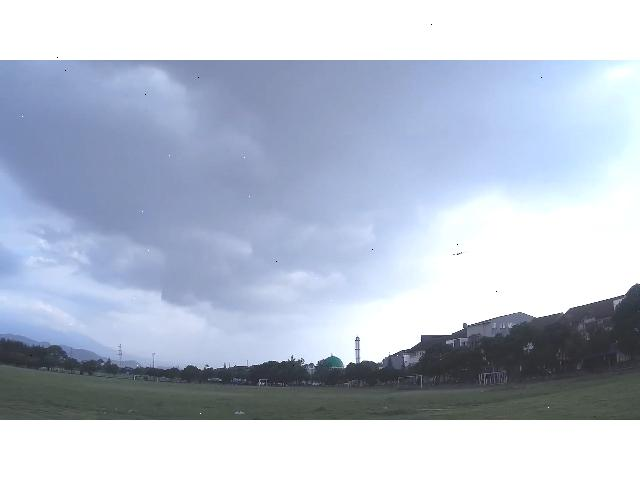Anti-Drone: (452, 250, 468, 256)
